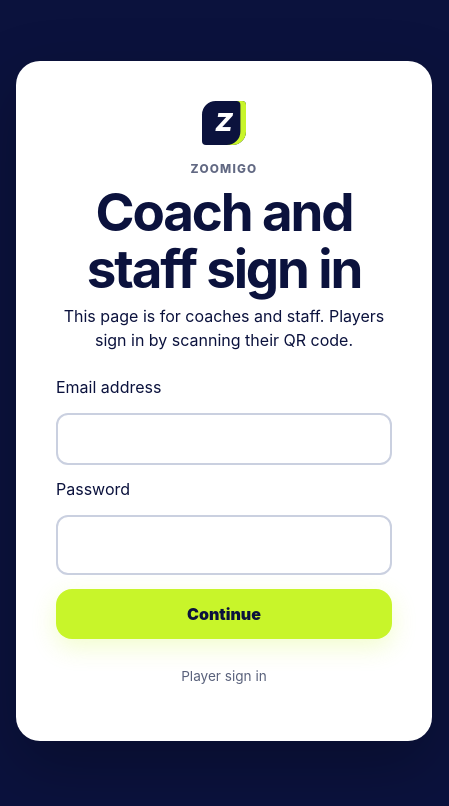
staff sign in › separates a throttled attempt from a rejected one
Type "coach@example.test" into the field labelled "Email address" at (224, 438), box [56,412,392,464]
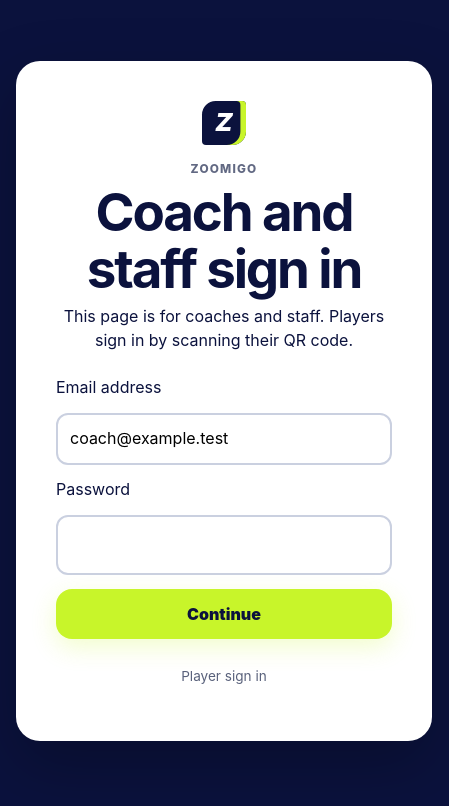
Type "a-long-enough-password" into the password field labelled "Password" at (224, 545), box [56,515,392,575]
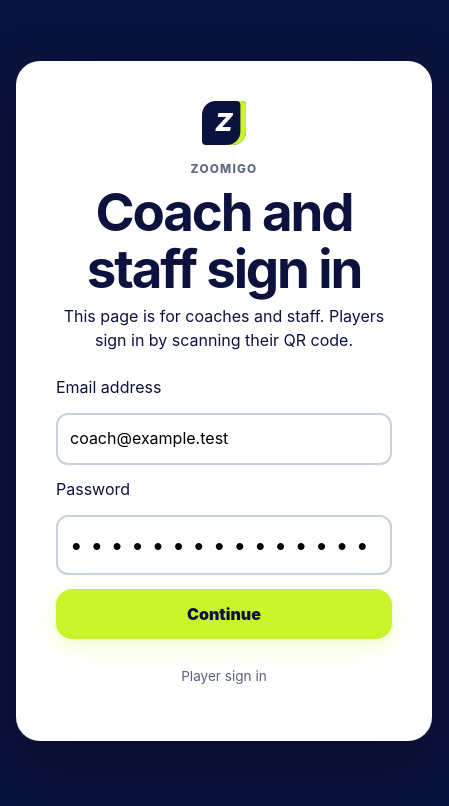
Submit the form from the button "Continue", box [56,589,392,639]
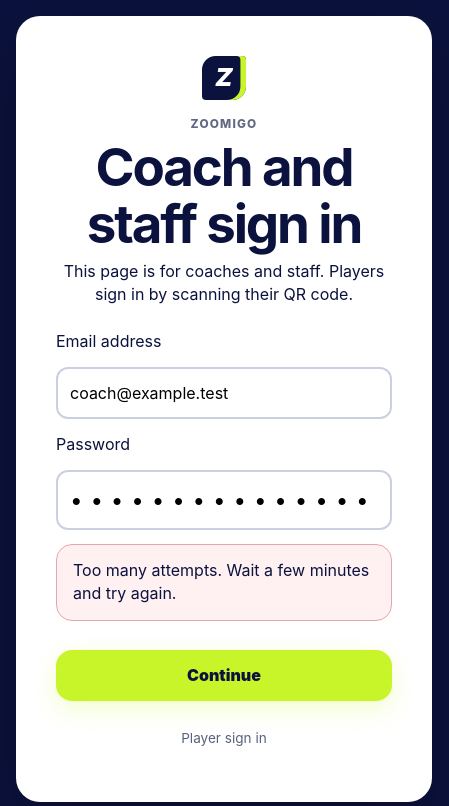
Check: the message reads "Too many attempts. Wait a few minutes and try again.", box [73,560,369,603]
